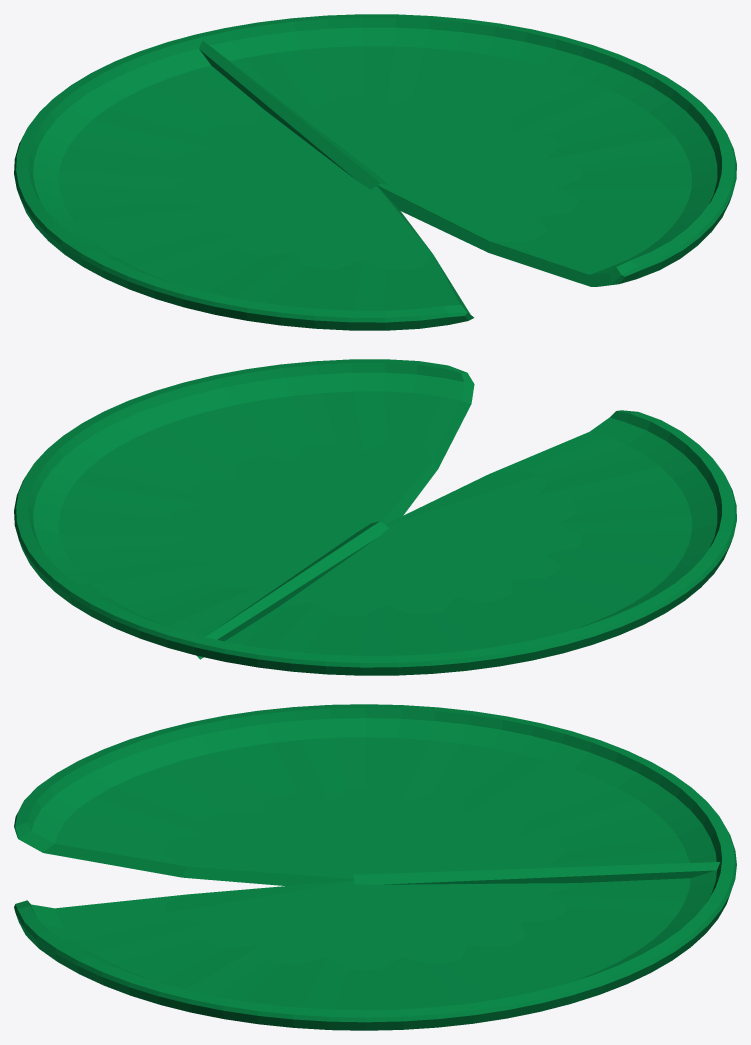
The model's file is lilypad-animated.glb.
3 renders of one model, top to bottom at view 1: azimuth 30°, elevation 25°; view 2: azimuth 150°, elevation 25°; view 3: azimuth 270°, elevation 25°, orthographic. The views are drawn at different scales.
Visible parts, largest first — view 1: Lilypad; view 2: Lilypad; view 3: Lilypad.
Part boxes in pixels (x1,y1,x2,y2): Lilypad: (14, 14, 736, 330); Lilypad: (14, 359, 736, 675); Lilypad: (14, 704, 736, 1030).
Bounding box in the file's own units: 2.08 × 0.1102 × 2.01.
